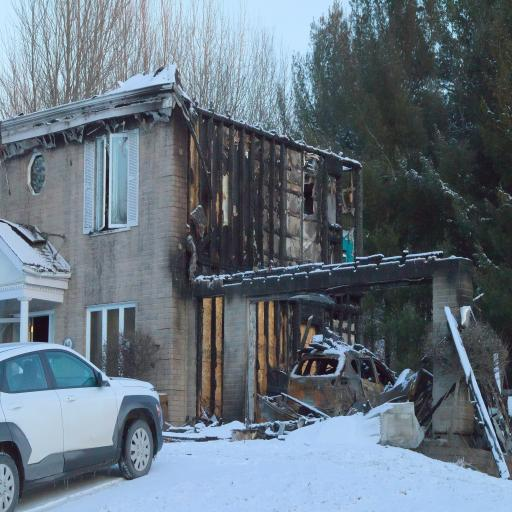buildingfire: (171, 50, 504, 421)
